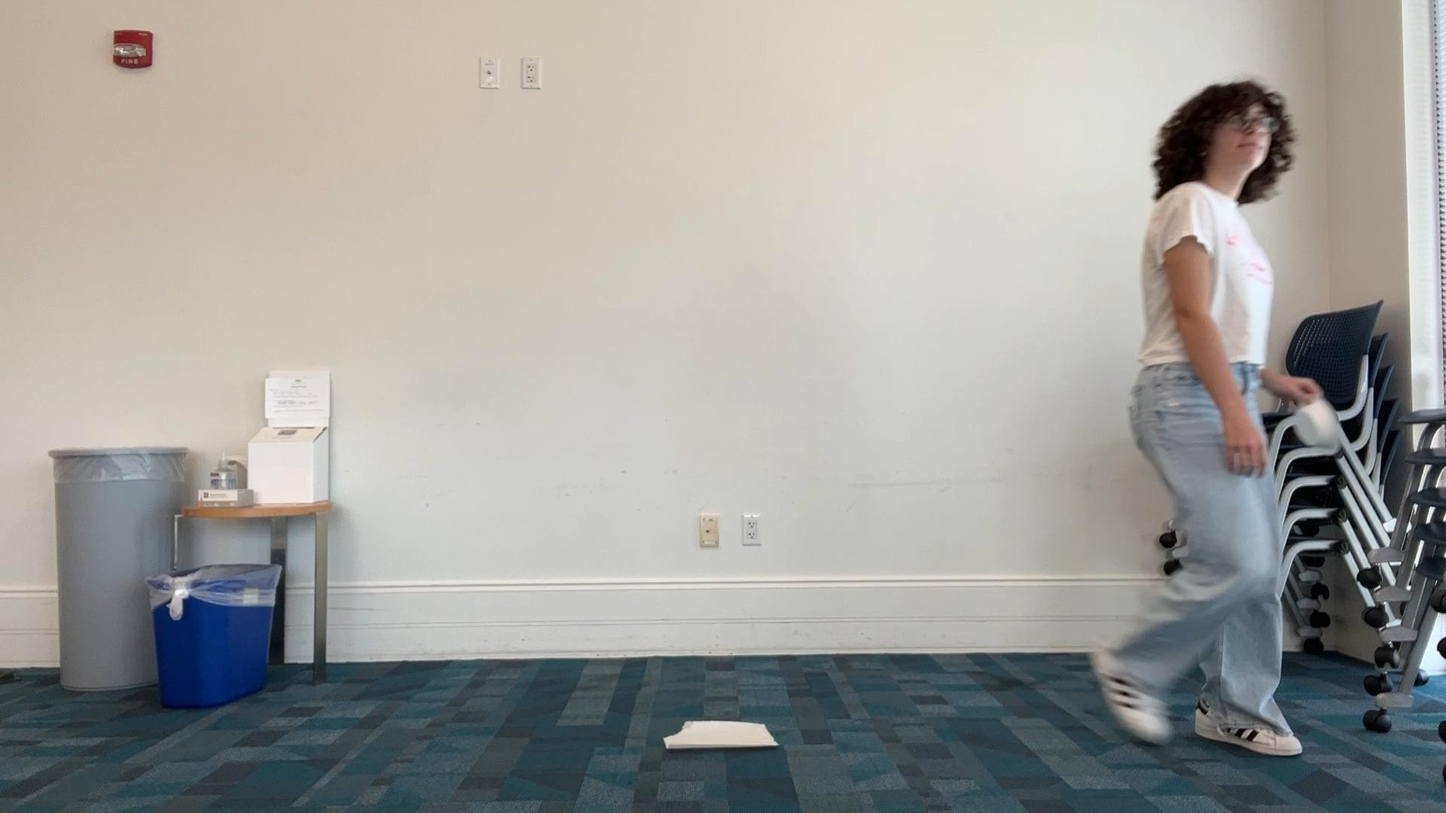Trash: (650, 697, 793, 777)
